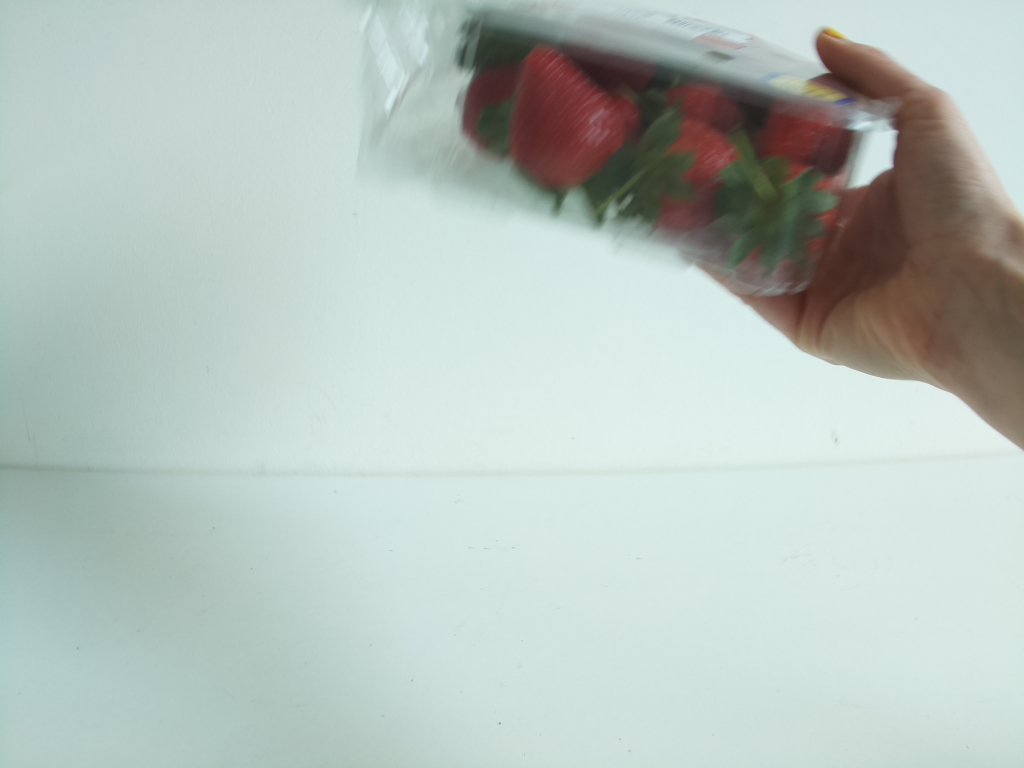soft-fruit: (349, 1, 910, 303)
